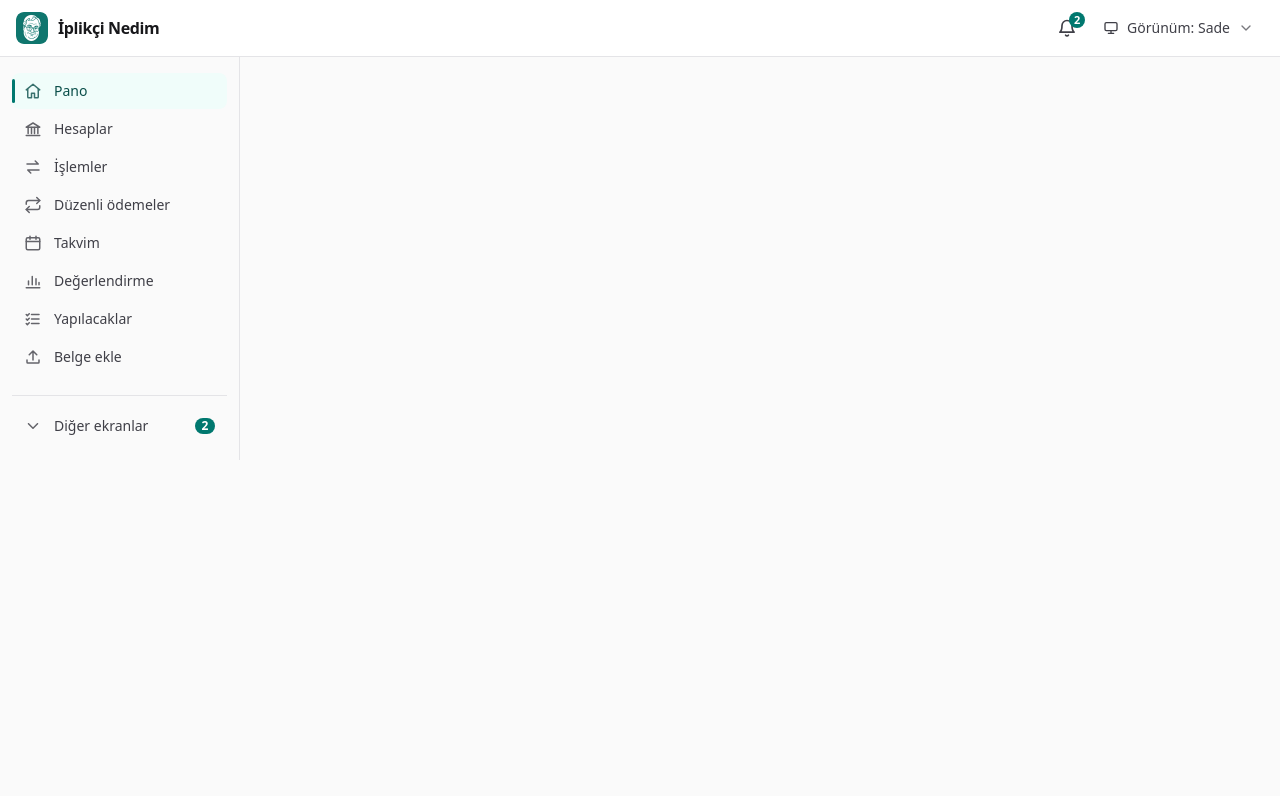
it: Layout › switches between the simple and the detailed view from the header, naming the view on its button
This screenshot has width=1280, height=796.
Click the button "Görünüm: Sade": [1179, 28] box [1093,6,1264,50]
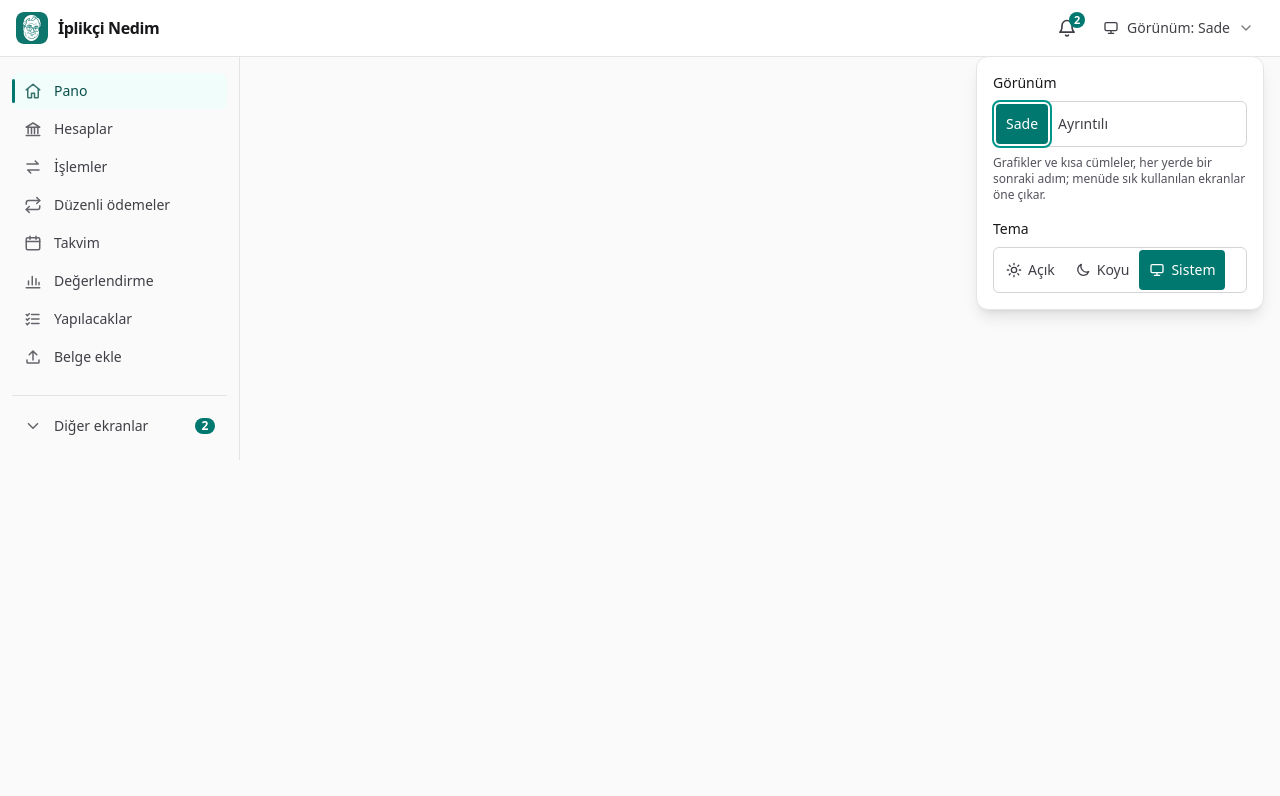
Check: the radio button labelled "Sade" is checked, box [996,104,1048,144]
Click the radio button labelled "Ayrıntılı": [1083, 124] box [1058,114,1108,133]
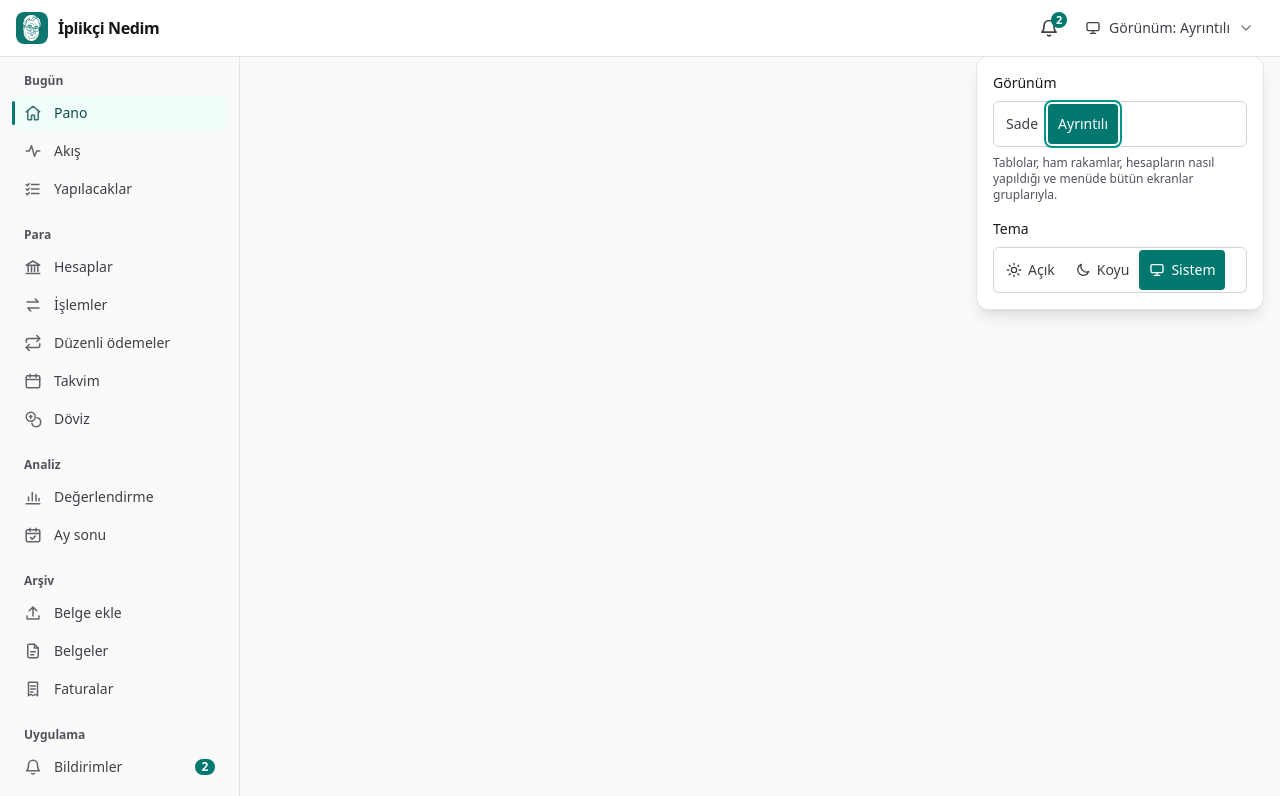
Check: the radio button labelled "Ayrıntılı" is checked, box [1048,104,1118,144]
Check: the button "Görünüm: Ayrıntılı" is shown, box [1075,6,1264,50]
